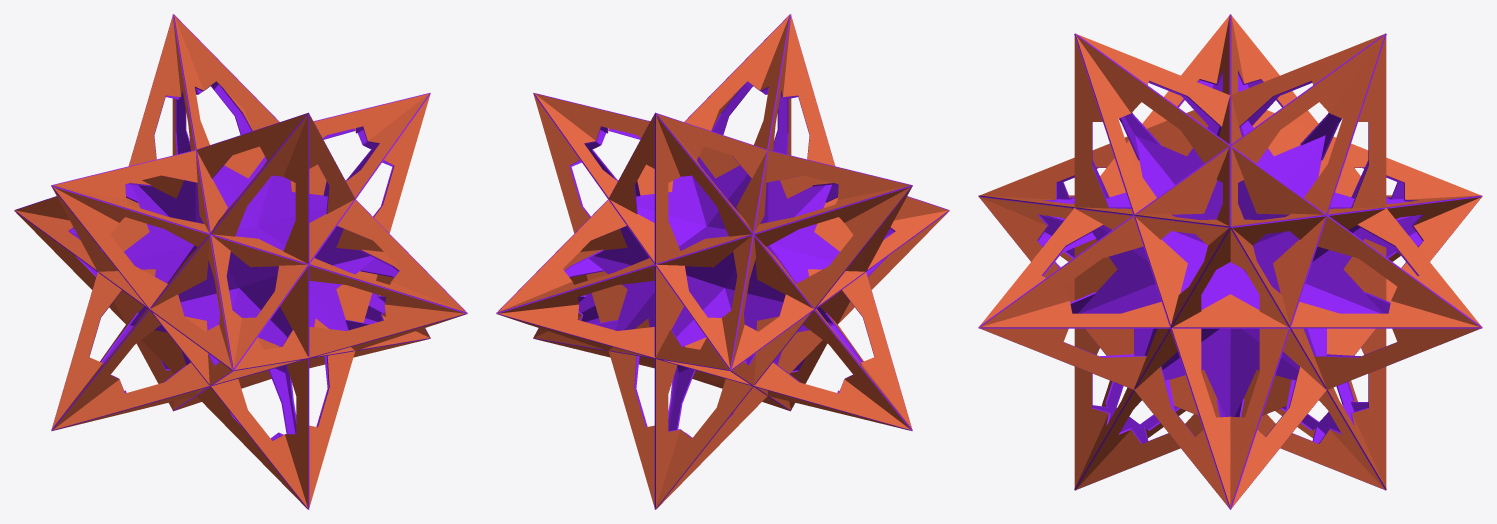
Rendered from GreatIcosahedronS.glb.
The picture shows the model from 3 angles, left to right: view 1: azimuth 30°, elevation 25°; view 2: azimuth 150°, elevation 25°; view 3: azimuth 270°, elevation 25°; orthographic projection. The views are drawn at different scales.
Parts seen in each view (by area): view 1: Mesh_0.002; view 2: Mesh_0.002; view 3: Mesh_0.002.
Boxes of the visible parts, x1=… form: Mesh_0.002: x1=14, y1=14, x2=467, y2=509; Mesh_0.002: x1=496, y1=14, x2=949, y2=509; Mesh_0.002: x1=978, y1=14, x2=1482, y2=509.
Bounding box in the file's own units: 7.5 × 7.5 × 7.5.
